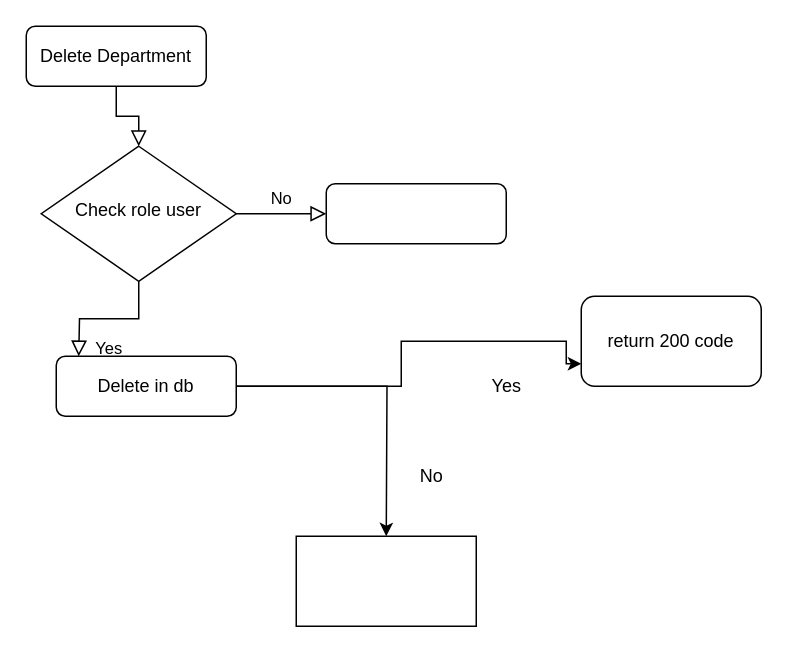
Image size: 788x653. Some labels were removed from this diagram. Here are the shapes that lost their labels. From the top down, the centre of each, then its label:
(415,213): 400 error code
(385,580): log error data
